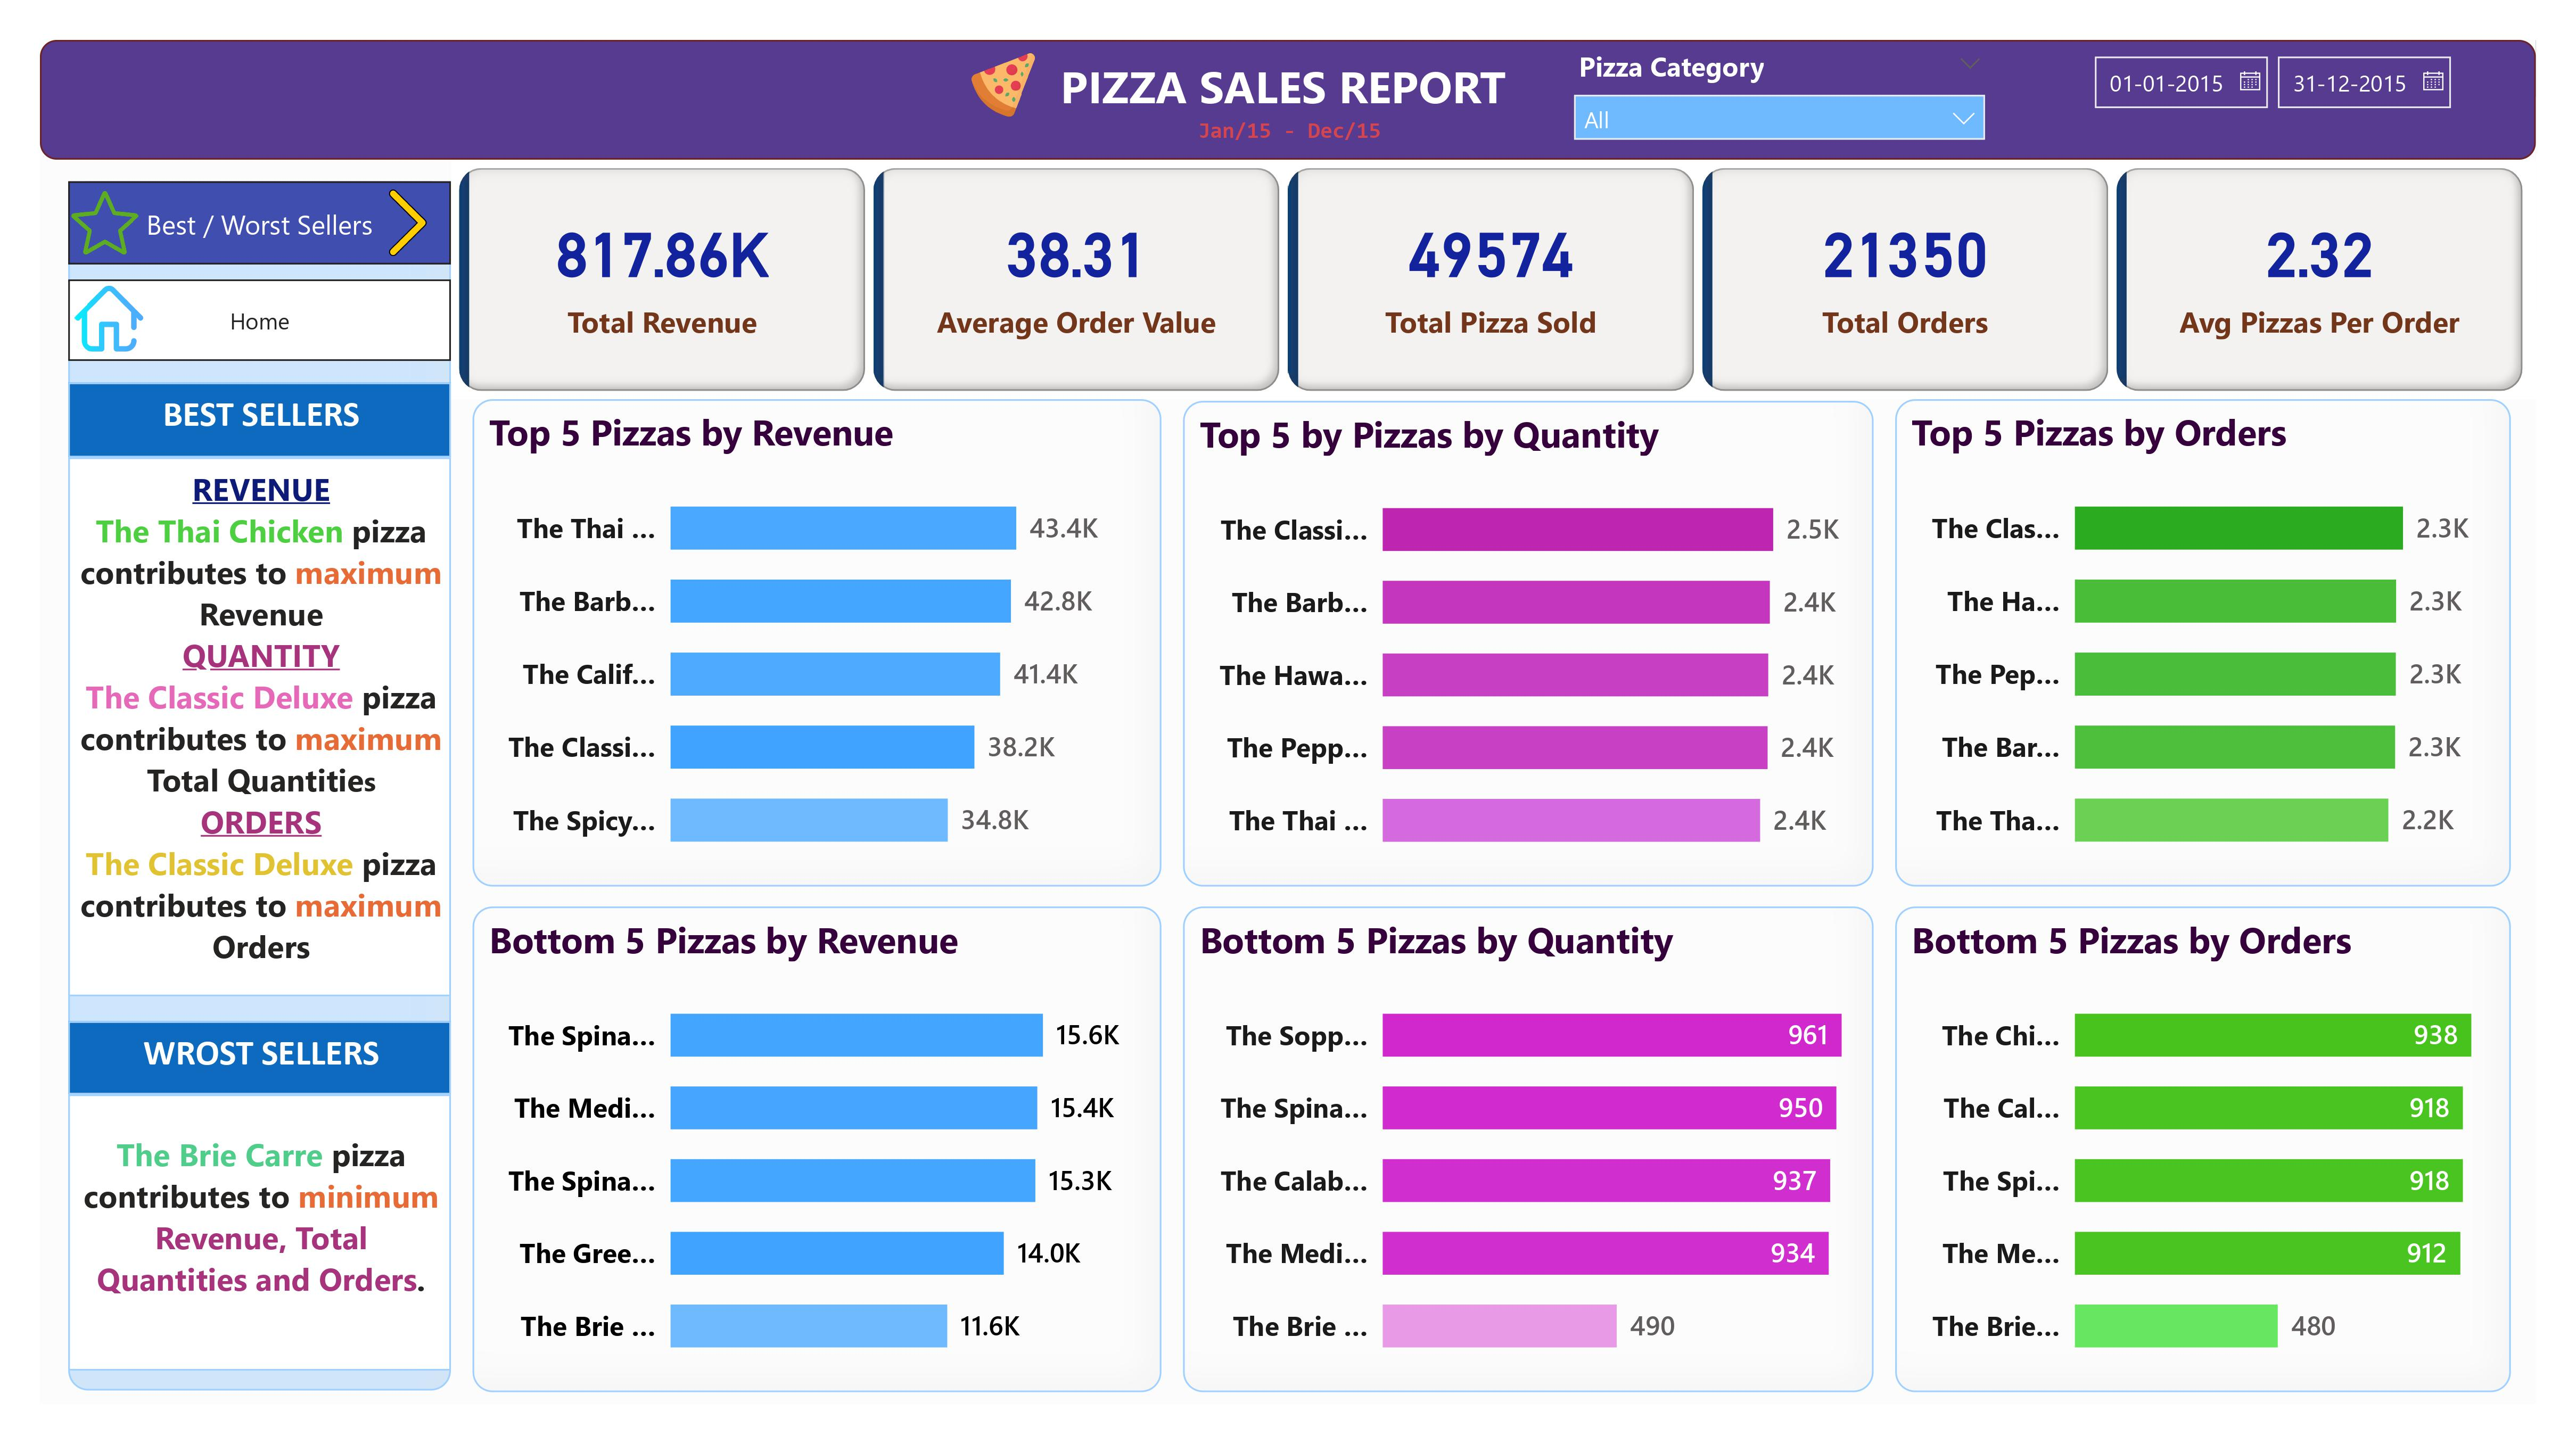

What the dashboard file says about the page in this screenshot:
{"tool":"powerbi","page":{"name":"Best / Worst Sellers","canvas":[1500,820],"ordinal":1},"visuals":[{"type":"textbox","box":[16.6,84.8,230.3,727],"z":0},{"type":"cardVisual","fields":{"Data":["pizza_sales.Total Revenue","pizza_sales.Average Order Value","pizza_sales.Total Pizza Sold","pizza_sales.Total Orders","pizza_sales.Avg Pizzas Per Order"]},"box":[246.9,71.9,1253,143.7],"z":1000},{"type":"textbox","box":[482.8,25.8,504.9,24],"z":2000},{"type":"textbox","box":[0,0,1500,71.9],"z":3000},{"type":"image","box":[541.8,1.8,73.7,49.8],"z":4000},{"type":"barChart","title":"Top 5 Pizzas by Revenue","fields":{"Category":["pizza_sales.pizza_name"],"Y":["pizza_sales.Total Revenue"]},"box":[259.8,215.6,414.6,293],"z":5000},{"type":"textbox","box":[16.6,206.4,230.3,44.2],"z":6000},{"type":"textbox","box":[16.6,250.6,230.3,324.3],"z":7000},{"type":"textbox","box":[16.6,589.7,230.3,44.2],"z":8000},{"type":"textbox","box":[16.6,633.9,230.3,165.8],"z":9000},{"type":"slicer","fields":{"Values":["pizza_sales.pizza_category"]},"box":[912.1,0,267.2,71.9],"z":10000},{"type":"slicer","fields":{"Values":["pizza_sales.order_date"]},"box":[1221.7,0,243.2,71.9],"z":11000},{"type":"barChart","title":"Top 5 by Pizzas by Quantity","fields":{"Category":["pizza_sales.pizza_name"],"Y":["pizza_sales.Total Pizza Sold"]},"box":[687.3,217.4,414.6,291.1],"z":12000},{"type":"barChart","title":"Top 5 Pizzas by Orders","fields":{"Category":["pizza_sales.pizza_name"],"Y":["pizza_sales.Total Orders"]},"box":[1114.8,215.6,370.4,293],"z":13000},{"type":"barChart","title":"Bottom 5 Pizzas by Revenue","fields":{"Category":["pizza_sales.pizza_name"],"Y":["pizza_sales.Total Revenue"]},"box":[259.8,521.5,414.6,291.1],"z":14000},{"type":"barChart","title":"Bottom 5 Pizzas by Quantity","fields":{"Category":["pizza_sales.pizza_name"],"Y":["pizza_sales.Total Pizza Sold"]},"box":[687.3,521.5,414.6,291.1],"z":15000},{"type":"barChart","title":"Bottom 5 Pizzas by Orders","fields":{"Category":["pizza_sales.pizza_name"],"Y":["pizza_sales.Total Orders"]},"box":[1114.8,521.5,370.4,291.1],"z":16000},{"type":"pageNavigator","box":[16.6,84.8,230.3,49.8],"z":17000},{"type":"pageNavigator","box":[16.6,143.7,230.3,49.8],"z":18000},{"type":"image","box":[182.4,84.8,77.4,49.8],"z":19000},{"type":"image","box":[5.5,141.9,71.9,51.6],"z":20000},{"type":"image","box":[0,84.8,77.4,49.8],"z":21000}]}

Visuals, with their boxes on the page's 1500x820 design canvas (x1, y1, x2, y2). These are canvas units, not pixel positions in the 2576x1444 screenshot, which may show the page scaled, cropped or inside an application window:
textbox: [left=17, top=85, right=247, bottom=812]
cardVisual - pizza_sales.Total Revenue x pizza_sales.Average Order Value: [left=247, top=72, right=1500, bottom=216]
textbox: [left=483, top=26, right=988, bottom=50]
textbox: [left=0, top=0, right=1500, bottom=72]
image: [left=542, top=2, right=616, bottom=52]
"Top 5 Pizzas by Revenue" barChart: [left=260, top=216, right=674, bottom=509]
textbox: [left=17, top=206, right=247, bottom=251]
textbox: [left=17, top=251, right=247, bottom=575]
textbox: [left=17, top=590, right=247, bottom=634]
textbox: [left=17, top=634, right=247, bottom=800]
slicer - pizza_sales.pizza_category: [left=912, top=0, right=1179, bottom=72]
slicer - pizza_sales.order_date: [left=1222, top=0, right=1465, bottom=72]
"Top 5 by Pizzas by Quantity" barChart: [left=687, top=217, right=1102, bottom=508]
"Top 5 Pizzas by Orders" barChart: [left=1115, top=216, right=1485, bottom=509]
"Bottom 5 Pizzas by Revenue" barChart: [left=260, top=522, right=674, bottom=813]
"Bottom 5 Pizzas by Quantity" barChart: [left=687, top=522, right=1102, bottom=813]
"Bottom 5 Pizzas by Orders" barChart: [left=1115, top=522, right=1485, bottom=813]
pageNavigator: [left=17, top=85, right=247, bottom=135]
pageNavigator: [left=17, top=144, right=247, bottom=194]
image: [left=182, top=85, right=260, bottom=135]
image: [left=6, top=142, right=77, bottom=194]
image: [left=0, top=85, right=77, bottom=135]
